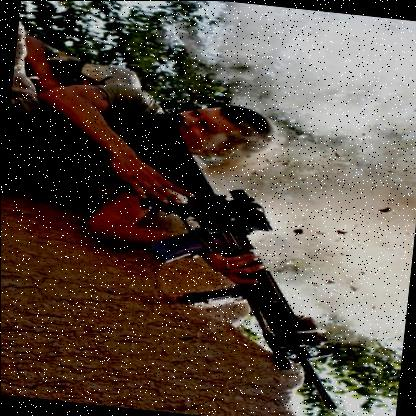rifle: (83, 120, 369, 412)
